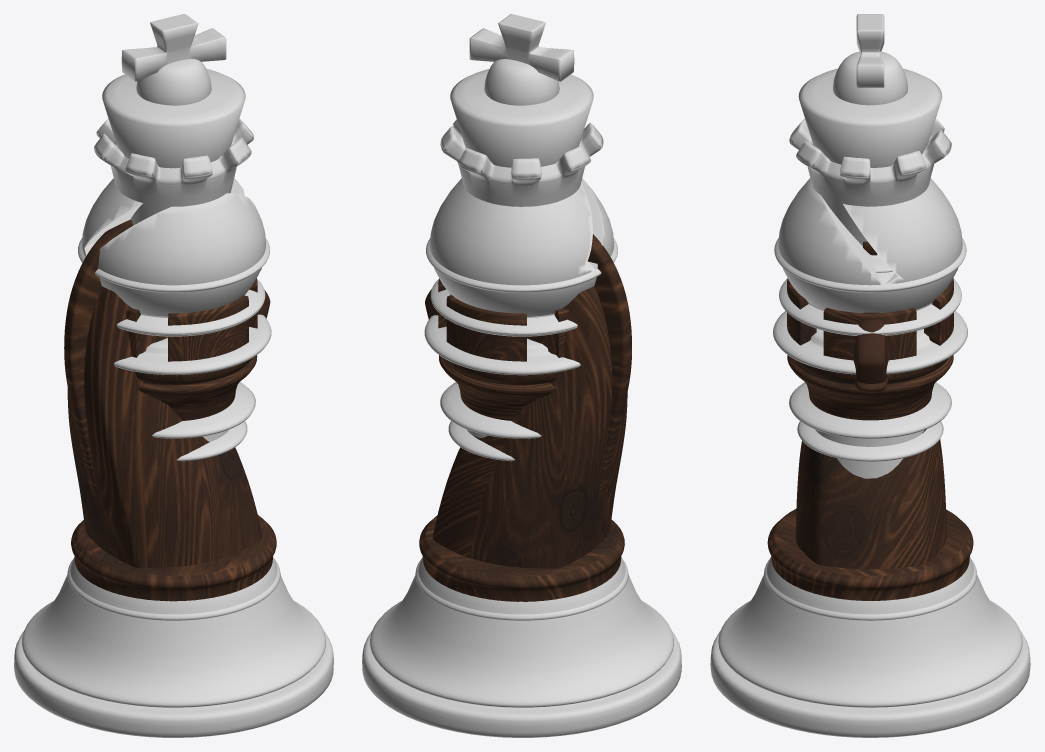
The model's file is Schachbrett.Bauer.fbx.
3 renders of one model, left to right at view 1: azimuth 30°, elevation 25°; view 2: azimuth 150°, elevation 25°; view 3: azimuth 270°, elevation 25°, orthographic.
Parts seen in each view (by area): view 1: König.001, Springer, Läufer, Dame, Turm.001, Dame.001, Bauer.001, Bauer.002; view 2: König.001, Springer, Läufer, Dame, Turm.001, Dame.001, Bauer.001, Bauer.002; view 3: König.001, Springer, Läufer, Turm.001, Dame, Dame.001, Bauer.001, Bauer.002.
Part boxes in pixels (x1,y1,x2,y2): König.001: (14,14,333,737); Springer: (64,219,276,601); Läufer: (67,178,280,620); Dame: (94,59,265,334); Turm.001: (125,278,257,420); Dame.001: (94,128,263,337); Bauer.001: (152,382,255,438); Bauer.002: (177,421,247,461); König.001: (362,14,681,737); Springer: (419,234,631,601); Läufer: (415,178,628,620); Dame: (430,59,603,334); Turm.001: (438,278,568,420); Dame.001: (432,122,602,336); Bauer.001: (440,382,541,438); Bauer.002: (448,421,514,461); König.001: (710,14,1030,737); Springer: (767,241,973,600); Läufer: (764,178,976,620); Turm.001: (787,278,953,420); Dame: (779,51,961,334); Dame.001: (781,124,961,335); Bauer.001: (789,382,951,438); Bauer.002: (797,421,943,461).
Size of the model in its own units: 207 by 463 by 207.
